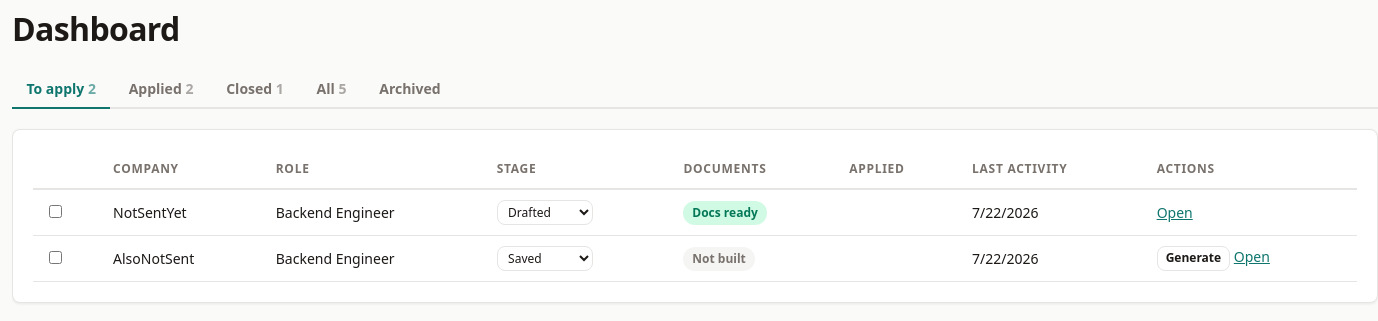
Test: DashboardScreen › separates what still needs sending from what is already out
Expected: the text "NotSentYet" is shown, [101, 189, 264, 236]
Expected: the text "AlsoNotSent" is shown, [101, 236, 264, 282]
Click the button "Applied 2" at (161, 89), box [114, 70, 208, 109]
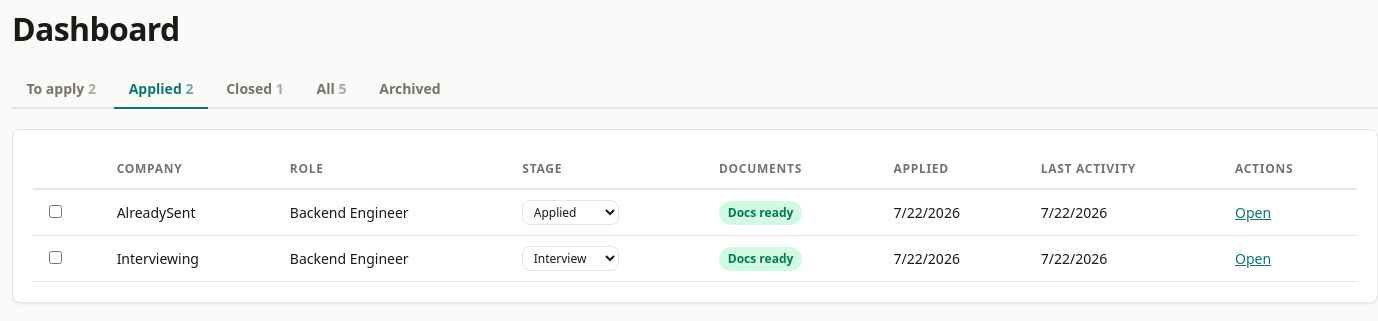
Now the text "AlreadySent" is shown, box [105, 189, 278, 236]
Now the text "Interviewing" is shown, box [105, 236, 278, 282]
Now the text "NotSentYet" is gone
// "Closed" isolates the dead ones so they stop padding the live count.
Click the button "Closed 1" at (255, 89), box [212, 70, 298, 109]
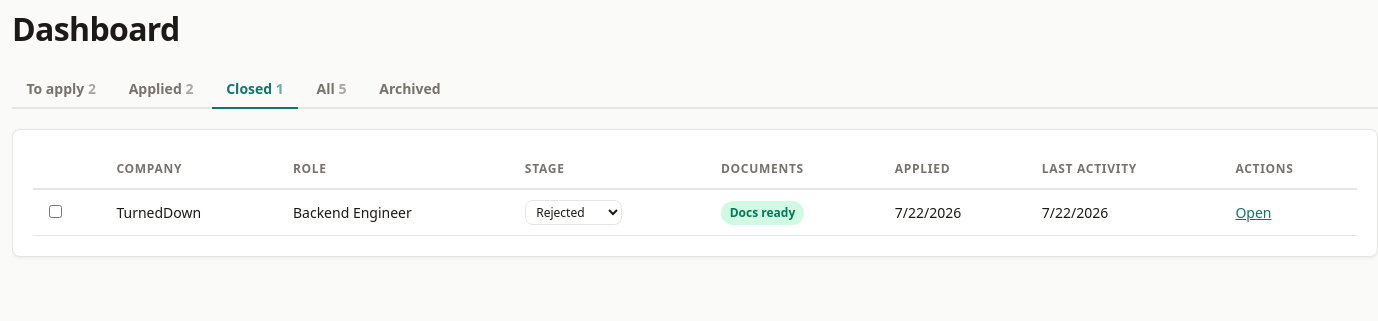
Now the text "TurnedDown" is shown, box [104, 189, 281, 236]
Now the text "AlreadySent" is gone
